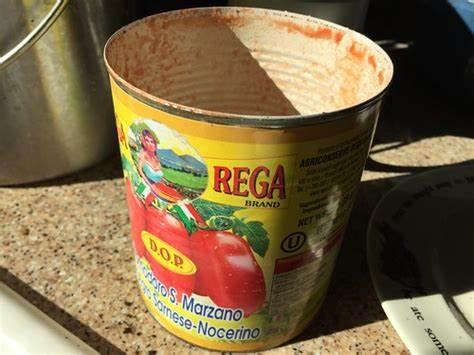metal: (104, 7, 394, 352)
